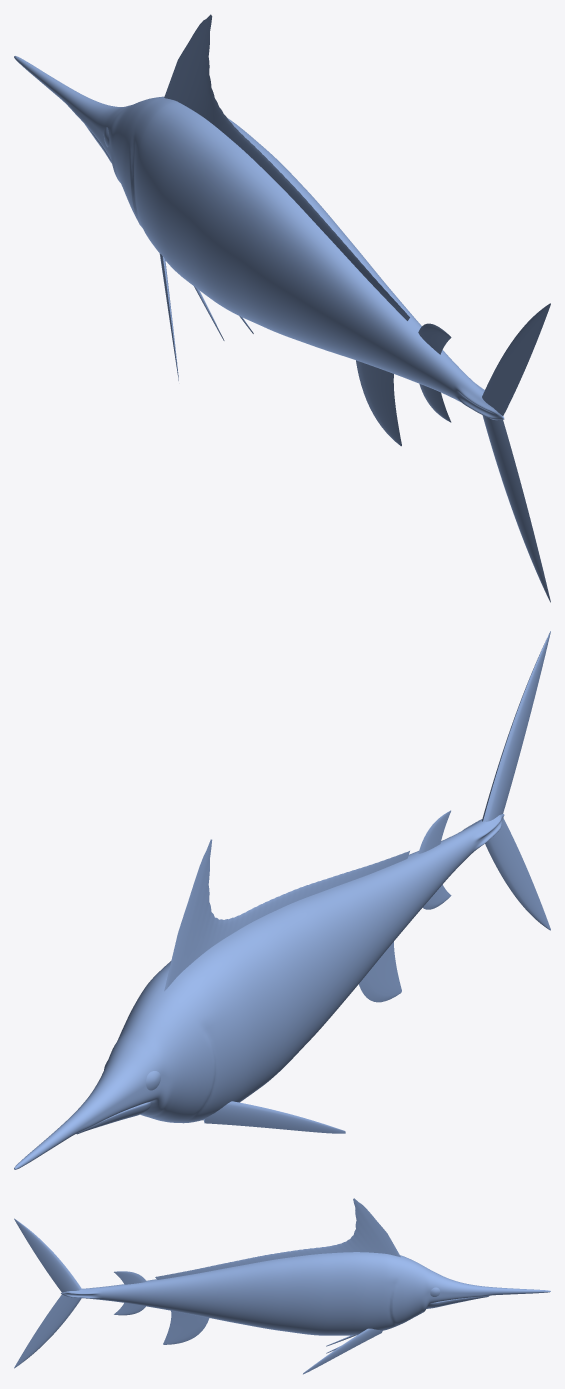
Rendered from blue_marlin.glb.
3 renders of one model, top to bottom at view 1: azimuth 30°, elevation 25°; view 2: azimuth 150°, elevation 25°; view 3: azimuth 270°, elevation 25°, orthographic. The views are drawn at different scales.
Visible parts, largest first — view 1: blue_marlin; view 2: blue_marlin; view 3: blue_marlin.
Boxes of the visible parts, x1,y1,x2,y2 form: blue_marlin: (14,14,550,602); blue_marlin: (14,631,550,1169); blue_marlin: (14,1198,550,1374).
Bounding box in the file's own units: 0.6439 × 1.26 × 3.6.
